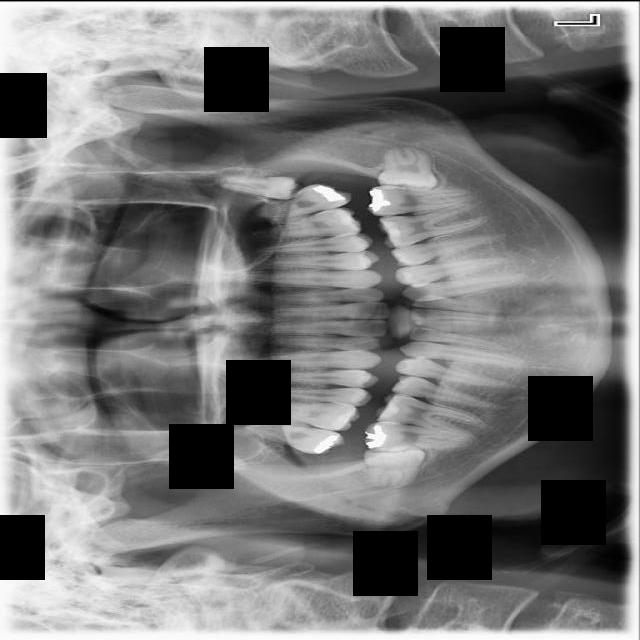52: (297, 173, 353, 218), (289, 424, 347, 457), (362, 419, 408, 453), (367, 183, 409, 217)
73: (570, 20, 584, 28)
BioHorizons Implant: (260, 176, 354, 223)
BioLife Implant: (219, 174, 303, 199)
Biomet 3i Implant: (376, 142, 442, 194)
Blue Sky Bio Implant: (367, 184, 472, 218)
Caries: (242, 417, 347, 458)
Implant: (364, 417, 473, 453)
Keystone Dental Implant: (361, 441, 429, 491)
